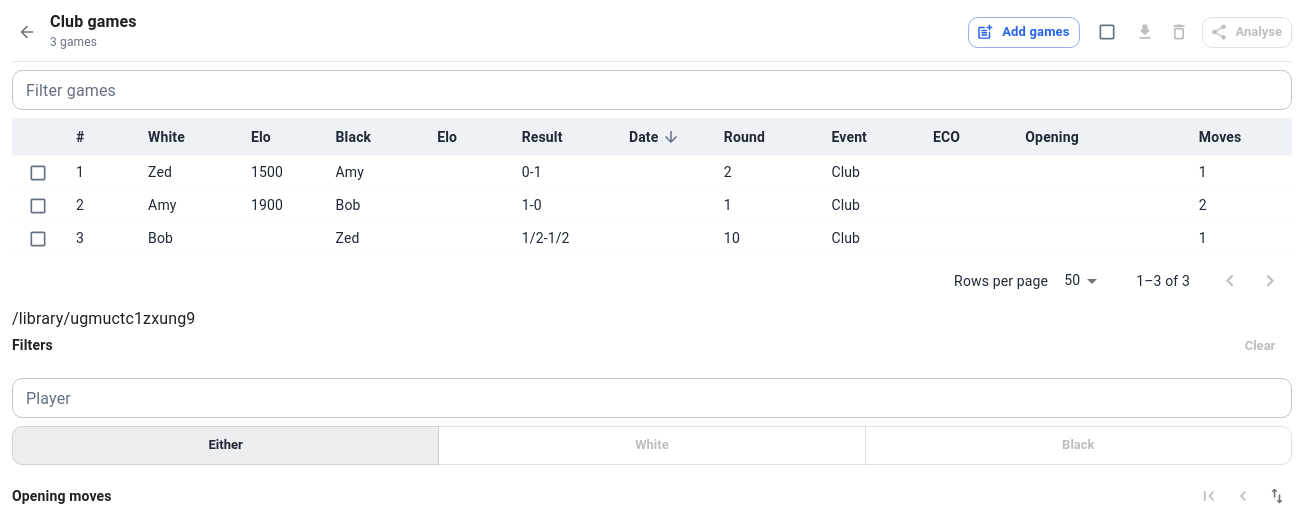
Test: a collection's table › filters by words and by result
Expected: the table with test id "library-table" is shown, [12,118,1292,255]
Type "zed" into the field with test id "library-table-filter" at x=652, y=90, box [12,70,1292,110]
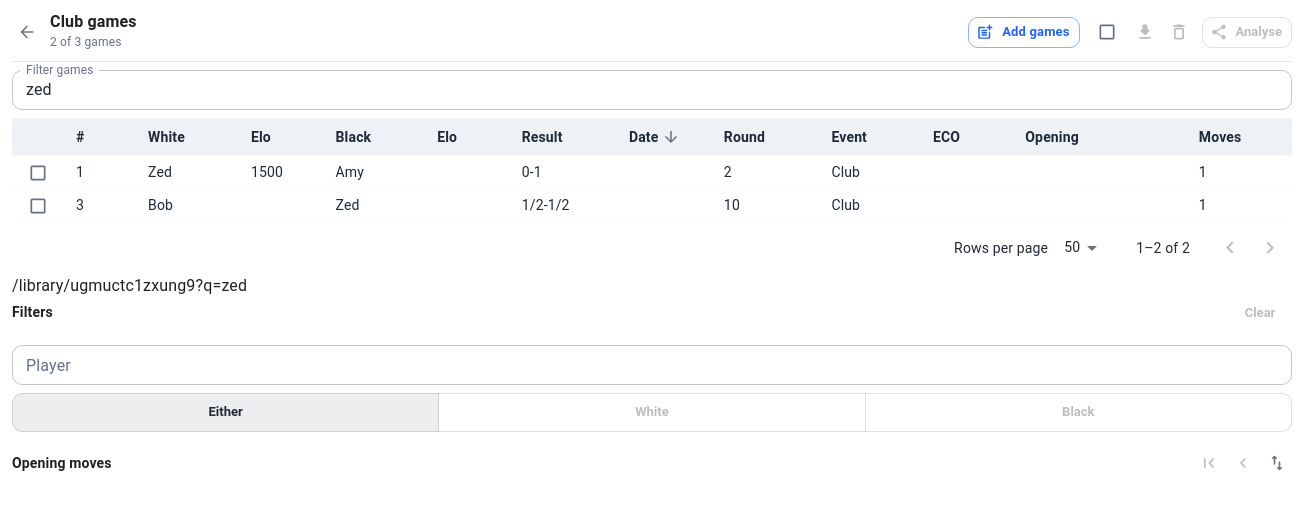
Result: the text with test id "library-table-count" reads "2 of 3 games" at [50,35,122,49]
Replace the text in the field with test id "library-table-filter" with "nobody" at x=652, y=90, box [12,70,1292,110]
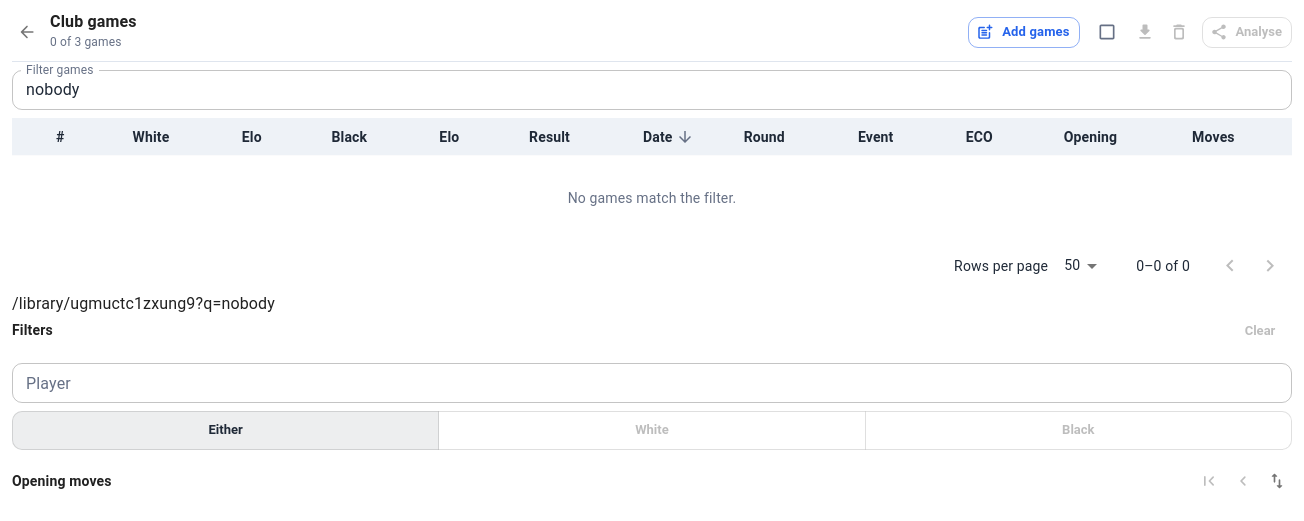
Result: the text "No games match the filter." is shown at [568,190,736,206]
